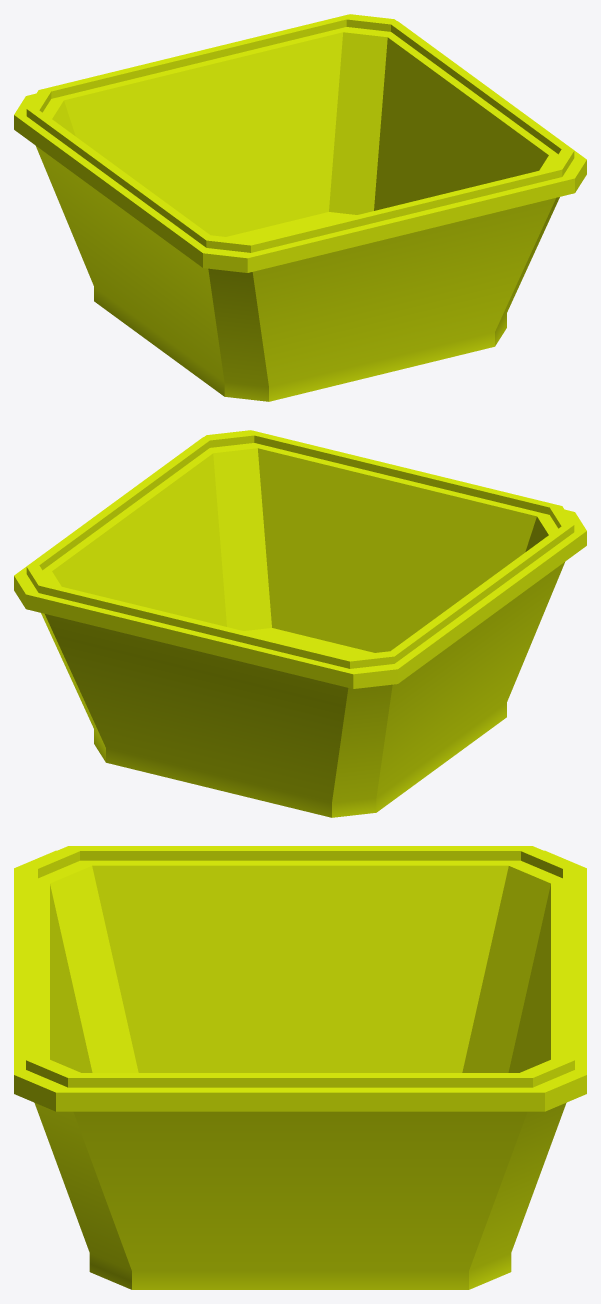
File: Basket1.FBX
The picture shows the model from 3 angles, top to bottom: view 1: azimuth 30°, elevation 25°; view 2: azimuth 150°, elevation 25°; view 3: azimuth 270°, elevation 25°; orthographic projection. The views are drawn at different scales.
Parts seen in each view (by area): view 1: Box023; view 2: Box023; view 3: Box023.
Boxes of the visible parts, box(x1,y1,x2,y2) form: Box023: box(14, 14, 586, 401); Box023: box(14, 430, 586, 817); Box023: box(14, 846, 586, 1289).
Bounding box in the file's own units: 1.22 × 0.5605 × 1.22.
